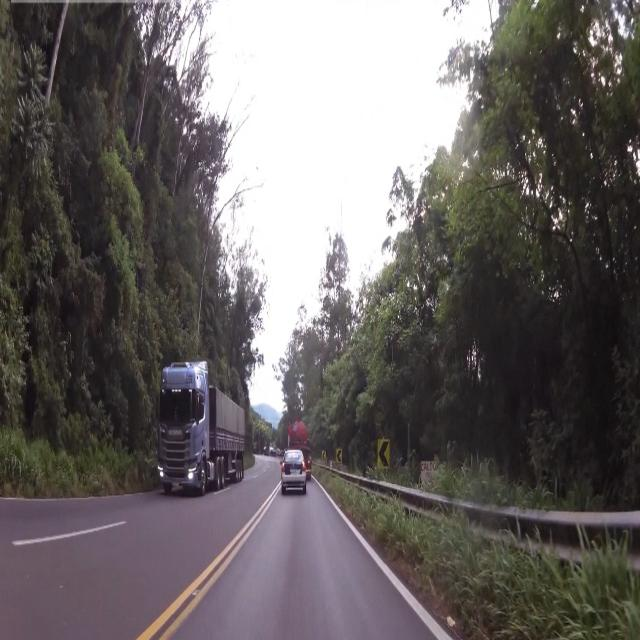Del: (379, 436, 390, 468)
